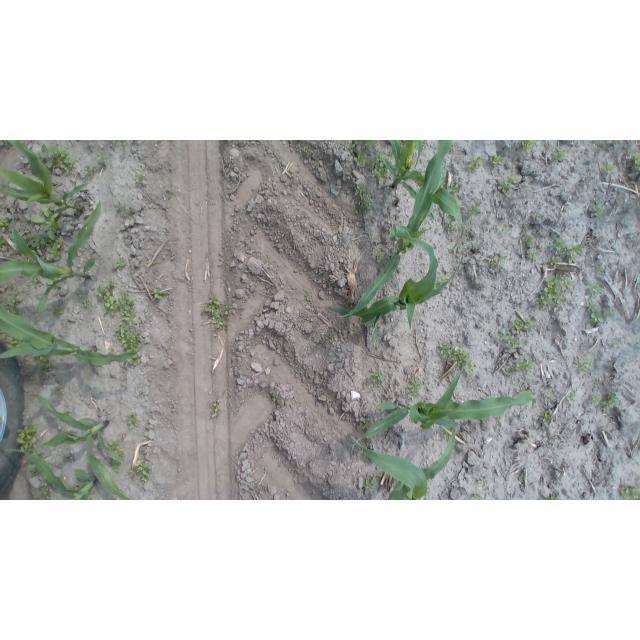Maize: (336, 140, 452, 320), (349, 367, 537, 453), (329, 236, 463, 345), (0, 199, 102, 318), (29, 393, 131, 500), (380, 141, 464, 252), (0, 303, 142, 365), (350, 426, 456, 500), (0, 140, 88, 224), (3, 448, 99, 500)
Weeds: (536, 273, 572, 307), (38, 144, 77, 175), (30, 203, 62, 239), (439, 342, 476, 373), (204, 296, 233, 331), (115, 325, 141, 364), (550, 238, 583, 265), (97, 282, 119, 317), (13, 420, 37, 452), (584, 300, 615, 324), (354, 184, 373, 215), (119, 292, 136, 324), (129, 460, 153, 482), (374, 153, 393, 180), (0, 292, 20, 315), (496, 332, 521, 349), (511, 318, 536, 335), (47, 236, 66, 258), (572, 357, 594, 374), (1, 332, 22, 349), (618, 484, 640, 500), (499, 176, 518, 194), (347, 140, 373, 153), (407, 376, 421, 400), (602, 393, 619, 412), (26, 233, 46, 249), (34, 357, 55, 372), (515, 357, 537, 371), (24, 459, 40, 478), (39, 481, 53, 500), (588, 203, 604, 219), (588, 283, 605, 298), (369, 372, 384, 388), (363, 474, 378, 490), (126, 413, 140, 430), (108, 457, 122, 473), (112, 140, 129, 153), (469, 201, 481, 219), (355, 153, 370, 167), (211, 400, 222, 419), (134, 171, 147, 187), (111, 258, 127, 271), (489, 257, 507, 268), (631, 153, 640, 175), (359, 416, 373, 430), (469, 156, 483, 170), (553, 149, 568, 162), (116, 203, 131, 216), (444, 217, 456, 233), (521, 140, 537, 152), (526, 248, 540, 261), (447, 182, 461, 195), (95, 150, 109, 162), (489, 155, 503, 167), (0, 219, 12, 233), (51, 305, 65, 317), (590, 393, 602, 406), (47, 277, 61, 288), (372, 252, 386, 263), (84, 164, 96, 176), (517, 387, 535, 395), (108, 441, 121, 452), (523, 235, 534, 248), (606, 140, 623, 148), (436, 273, 448, 284), (153, 287, 164, 299), (544, 492, 560, 500), (81, 297, 91, 309), (0, 236, 8, 250), (470, 492, 484, 500), (519, 474, 526, 490), (31, 276, 42, 286), (72, 481, 83, 491), (566, 392, 576, 403), (166, 187, 175, 199), (501, 223, 511, 233), (605, 163, 615, 173), (543, 412, 552, 423), (469, 242, 480, 251), (302, 146, 313, 155), (303, 288, 311, 300), (534, 213, 543, 223), (478, 476, 487, 486), (597, 264, 605, 275), (271, 394, 280, 403), (616, 195, 625, 204), (544, 390, 554, 398), (624, 150, 633, 158), (326, 332, 334, 341), (612, 340, 621, 348), (54, 386, 63, 394), (505, 367, 512, 377), (603, 425, 612, 432), (441, 176, 446, 186), (325, 399, 331, 407), (587, 251, 593, 258), (89, 491, 96, 496), (445, 434, 449, 442)
